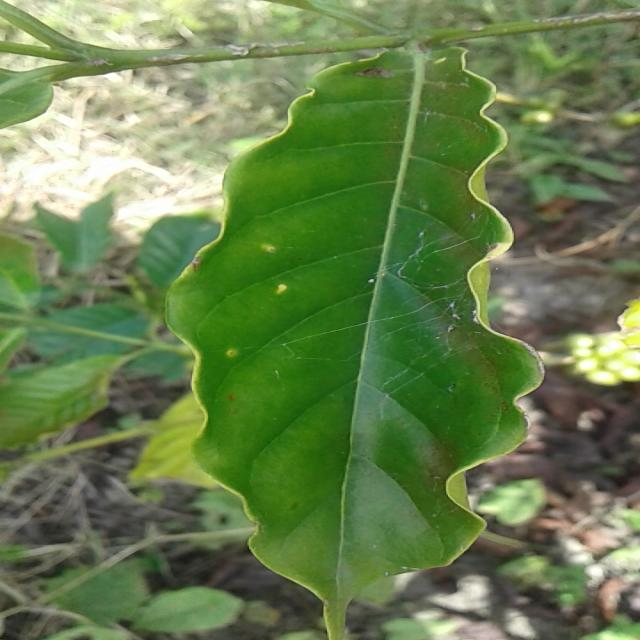Enfermedad-Roya: (165, 44, 546, 640)
